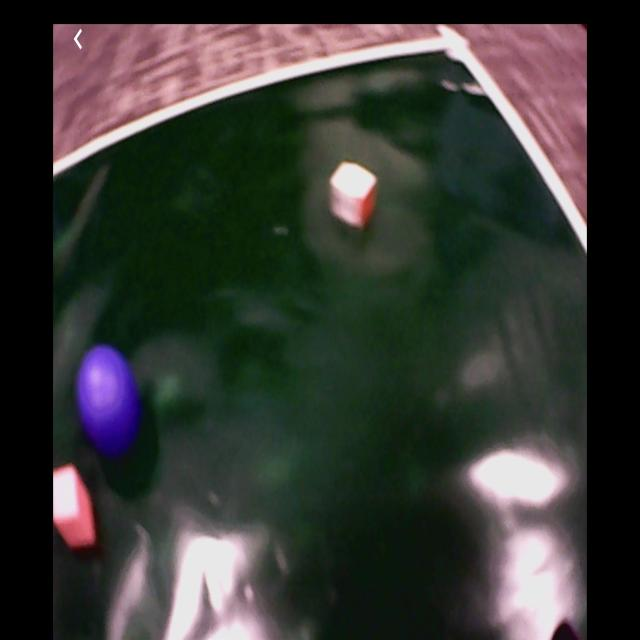ball: (79, 345, 145, 454)
